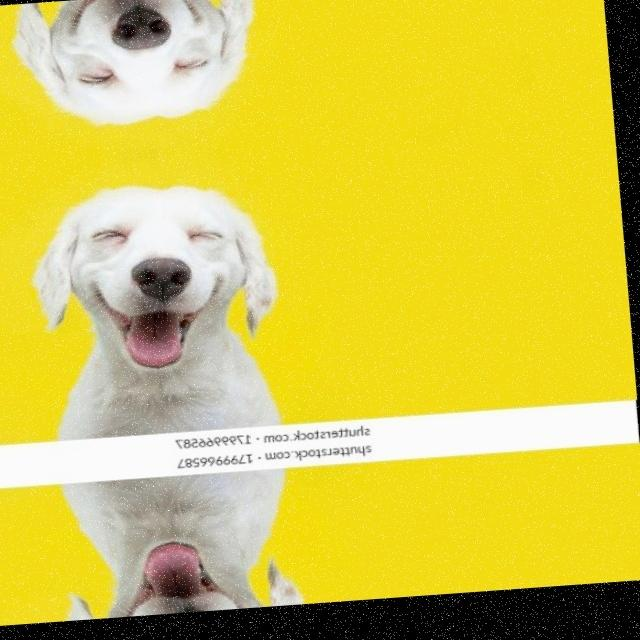dog: (19, 152, 300, 377), (5, 0, 282, 154), (51, 530, 320, 622)
